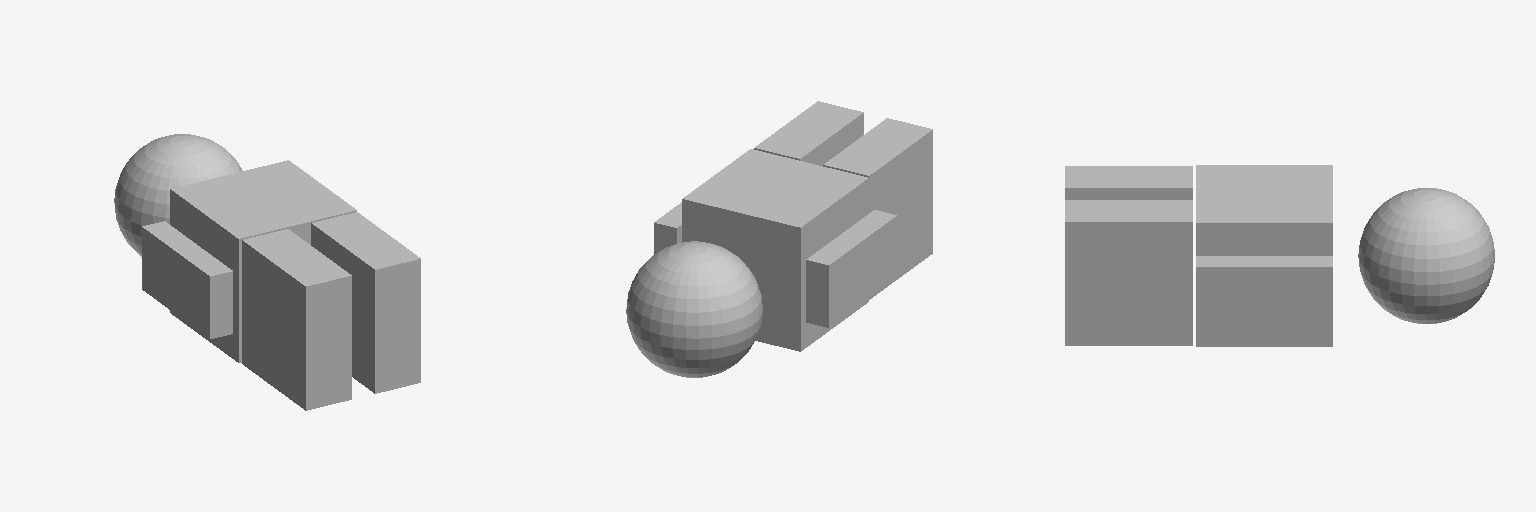
The model's file is sporty_robot_animation_000006.obj.
3 renders of one model, left to right at view 1: azimuth 30°, elevation 25°; view 2: azimuth 150°, elevation 25°; view 3: azimuth 270°, elevation 25°, orthographic.
Visible parts, largest first — view 1: Cube.002, Cube.001_Cube.005, Cube, Cube.004, Sphere.001; view 2: Cube, Sphere.001, Cube.002, Cube.004, Cube.001_Cube.005, Cube.003; view 3: Cube.001_Cube.005, Cube, Sphere.001, Cube.003, Cube.002.
Boxes of the visible parts, x1=… form: Cube.002: x1=242, y1=229, x2=351, y2=410; Cube.001_Cube.005: x1=311, y1=212, x2=420, y2=393; Cube: x1=170, y1=160, x2=356, y2=362; Cube.004: x1=142, y1=221, x2=232, y2=338; Sphere.001: x1=114, y1=134, x2=242, y2=256; Cube: x1=682, y1=149, x2=868, y2=351; Sphere.001: x1=626, y1=241, x2=762, y2=377; Cube.002: x1=823, y1=118, x2=932, y2=299; Cube.004: x1=806, y1=210, x2=897, y2=327; Cube.001_Cube.005: x1=754, y1=101, x2=863, y2=165; Cube.003: x1=654, y1=202, x2=681, y2=253; Cube.001_Cube.005: x1=1065, y1=200, x2=1192, y2=345; Cube: x1=1196, y1=165, x2=1332, y2=346; Sphere.001: x1=1358, y1=188, x2=1494, y2=323; Cube.003: x1=1196, y1=256, x2=1332, y2=329; Cube.002: x1=1065, y1=166, x2=1192, y2=199.
Size of the model in its own units: 0.76 by 0.514 by 1.62.